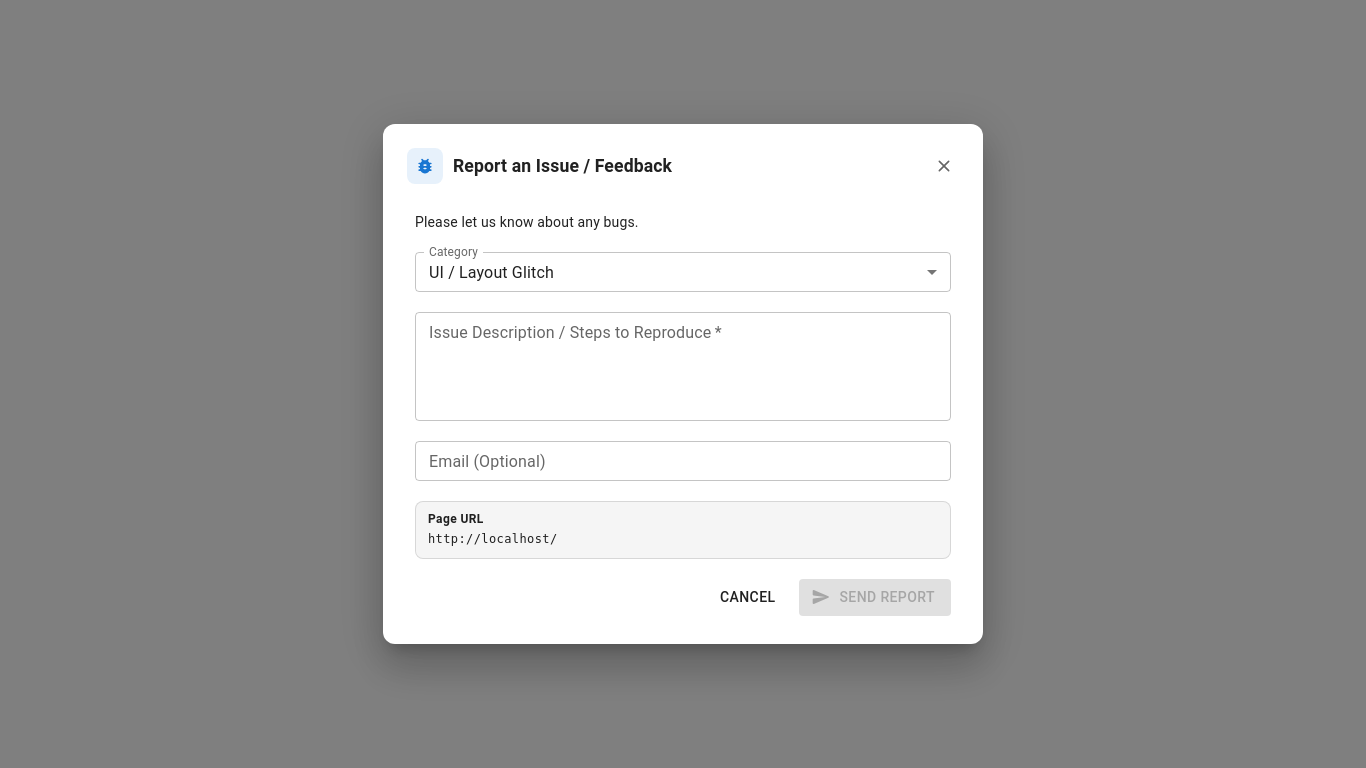
it: BugReportDialog › enables send button when message is typed and submits feedback to Sentry
Type "Something is broken" into the text box labelled "Issue Description / Steps to Reproduce *" at (683, 367), box top-left (429, 321), bottom-right (937, 413)
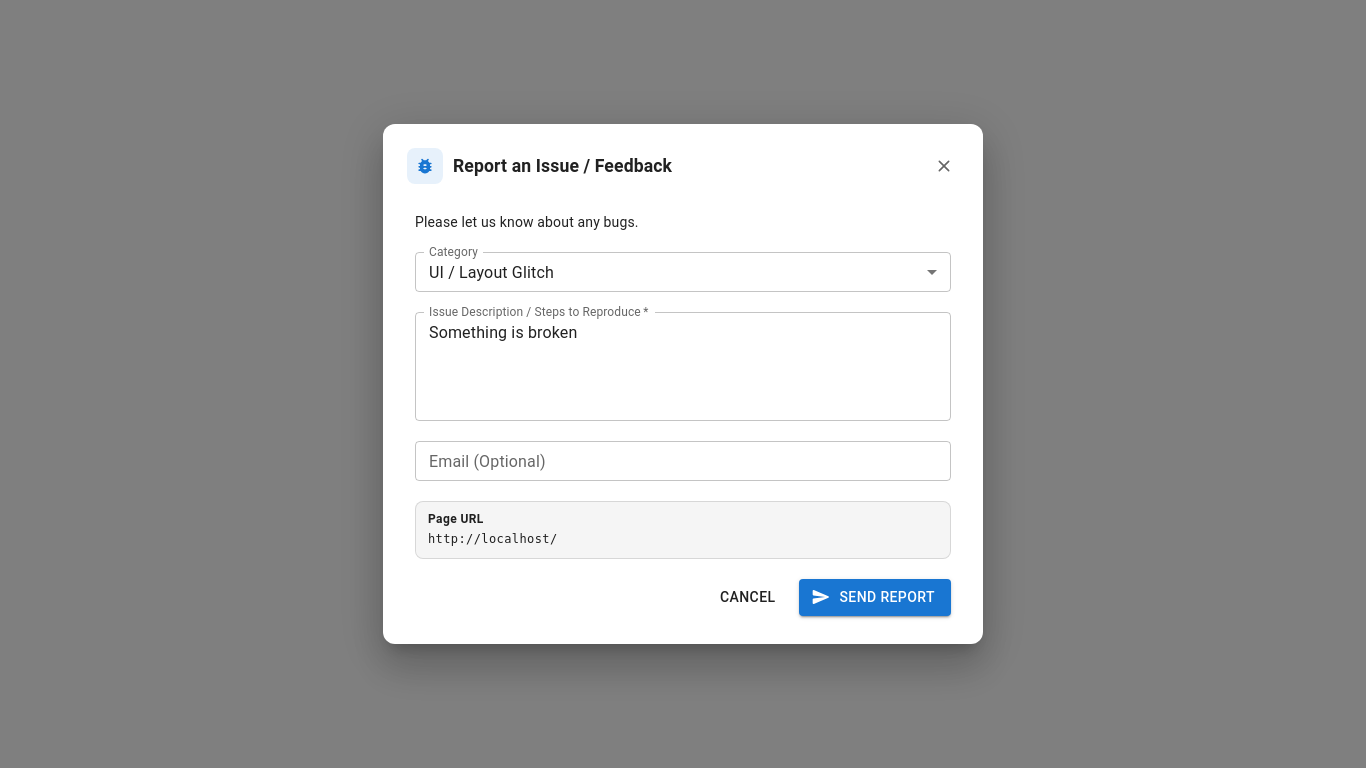
Type "user@example.com" into the field labelled "Email (Optional)" at (683, 461), box top-left (415, 441), bottom-right (951, 481)
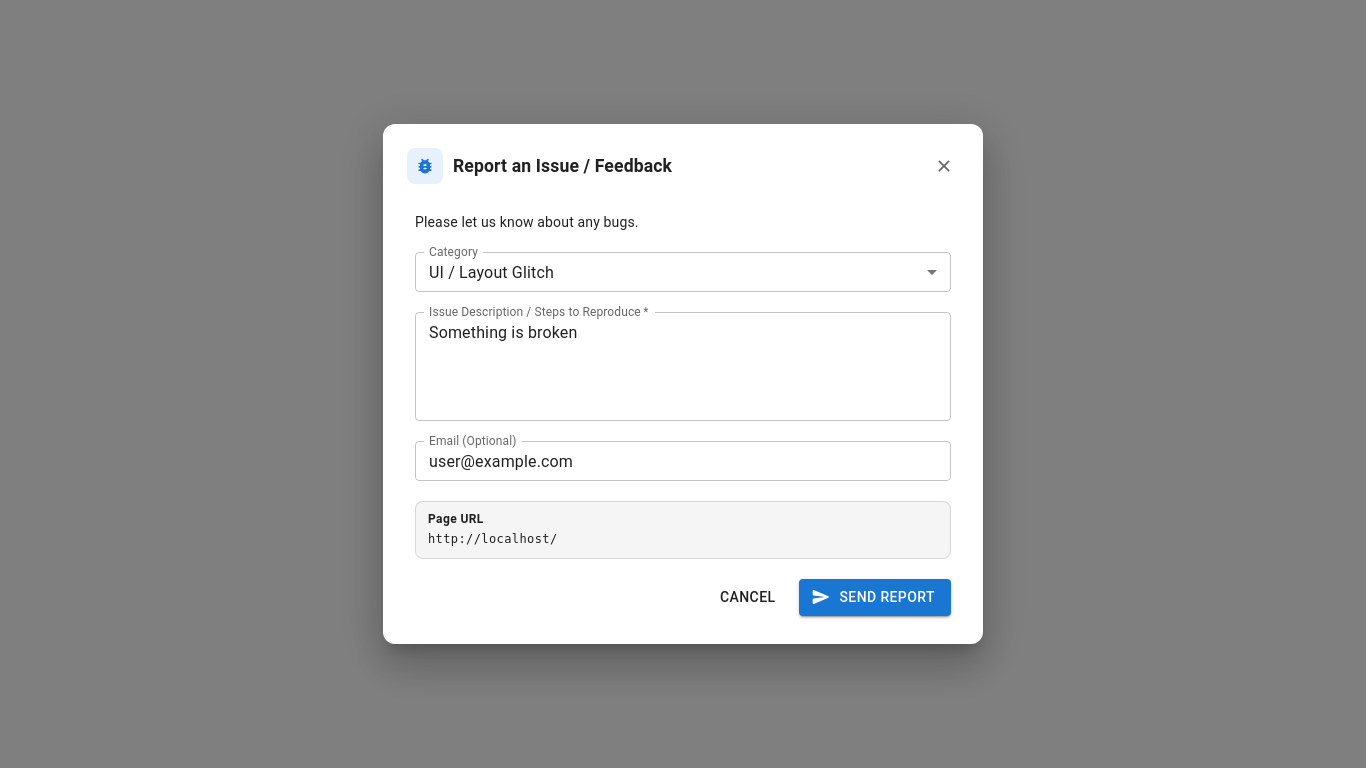
expect the button "Send Report" is enabled: met
Click the button "Send Report" at (875, 597), box top-left (800, 579), bottom-right (951, 616)
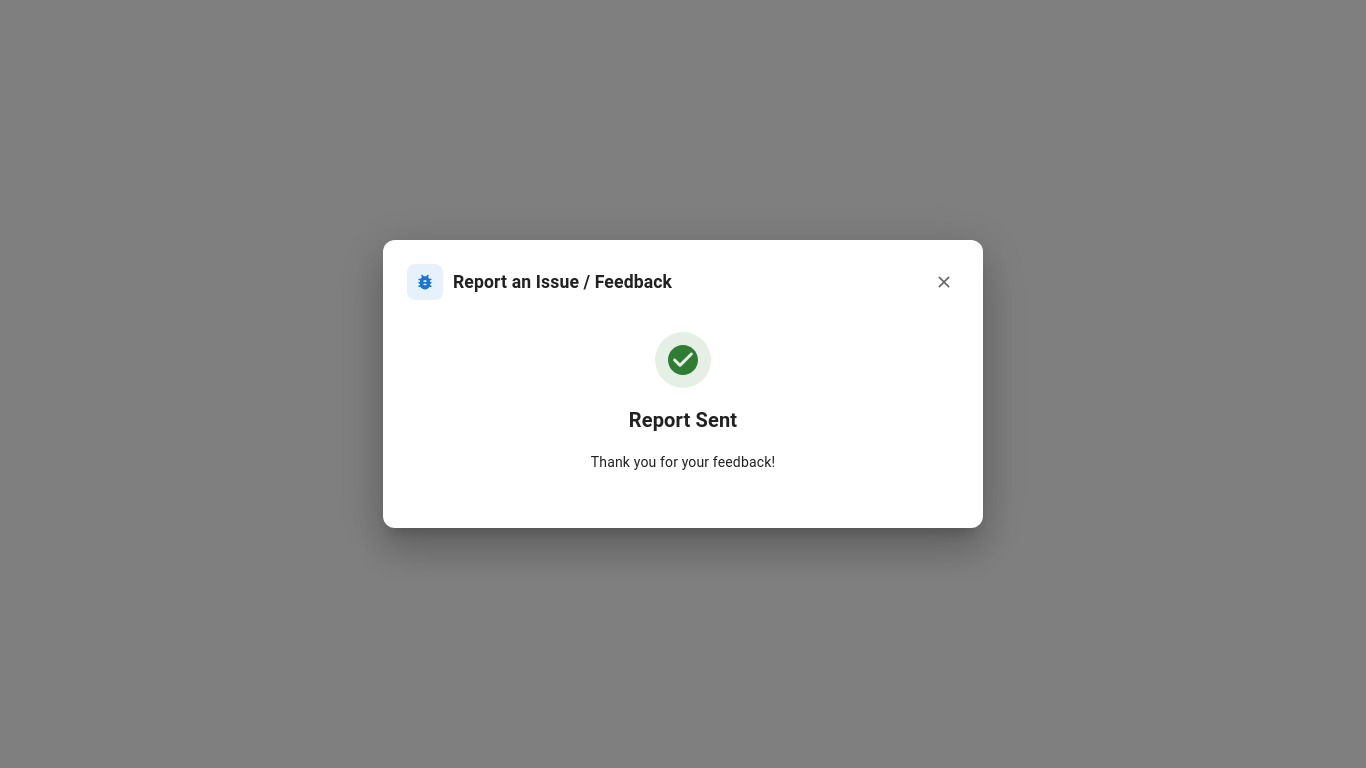
expect the heading "Report Sent" is shown: met, box top-left (629, 404), bottom-right (737, 436)
